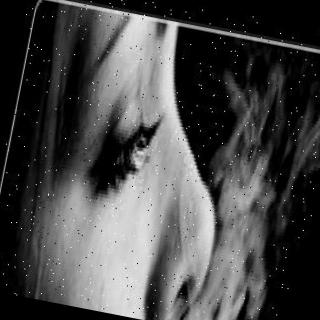smoke: (181, 63, 301, 320)
